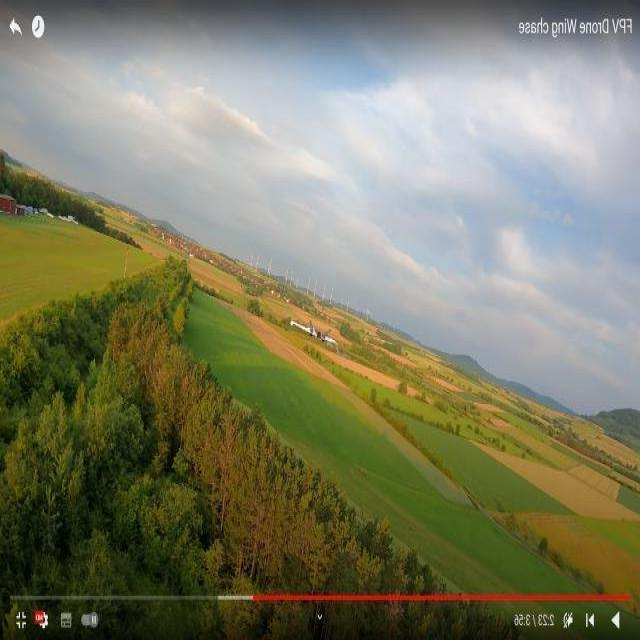iha: (306, 307, 320, 342)
